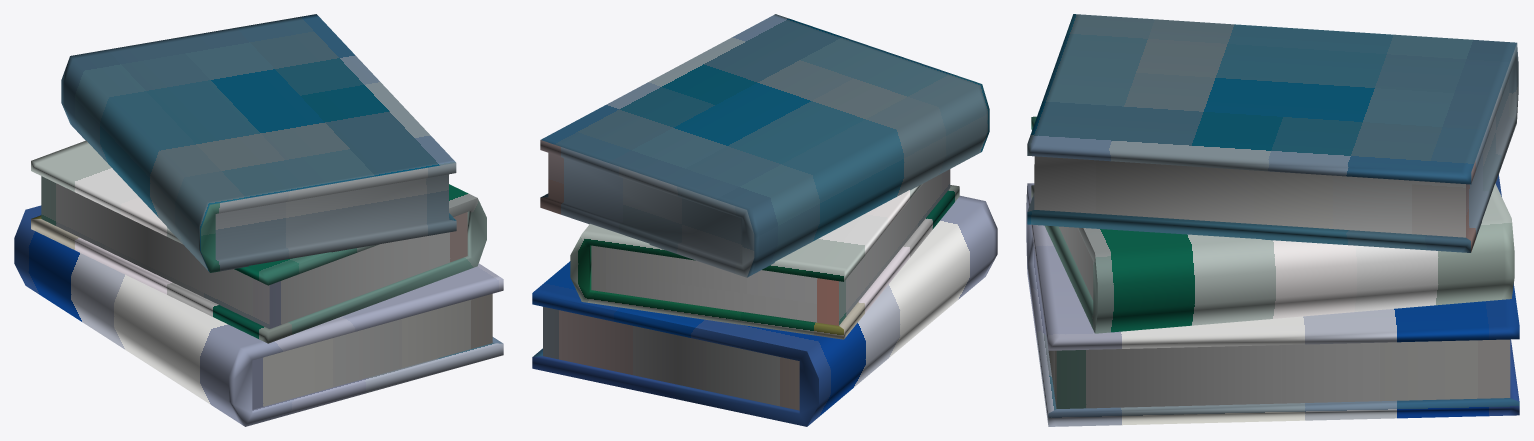
File: a_sch_entrance01_obj_book07.gltf
The picture shows the model from 3 angles, left to right: view 1: azimuth 30°, elevation 25°; view 2: azimuth 150°, elevation 25°; view 3: azimuth 270°, elevation 25°; orthographic projection. The views are drawn at different scales.
Visible parts, largest first — view 1: a_sch_entrance01_obj_book07_mesh_shape:a_sch_office01_shelfb; view 2: a_sch_entrance01_obj_book07_mesh_shape:a_sch_office01_shelfb; view 3: a_sch_entrance01_obj_book07_mesh_shape:a_sch_office01_shelfb.
Boxes of the visible parts, <box> form: a_sch_entrance01_obj_book07_mesh_shape:a_sch_office01_shelfb: <box>14,14,503,426</box>; a_sch_entrance01_obj_book07_mesh_shape:a_sch_office01_shelfb: <box>532,14,997,426</box>; a_sch_entrance01_obj_book07_mesh_shape:a_sch_office01_shelfb: <box>1026,14,1519,426</box>.
Size of the model in its own units: 0.2418 by 0.1599 by 0.2851.
1 material, 1 textured.
